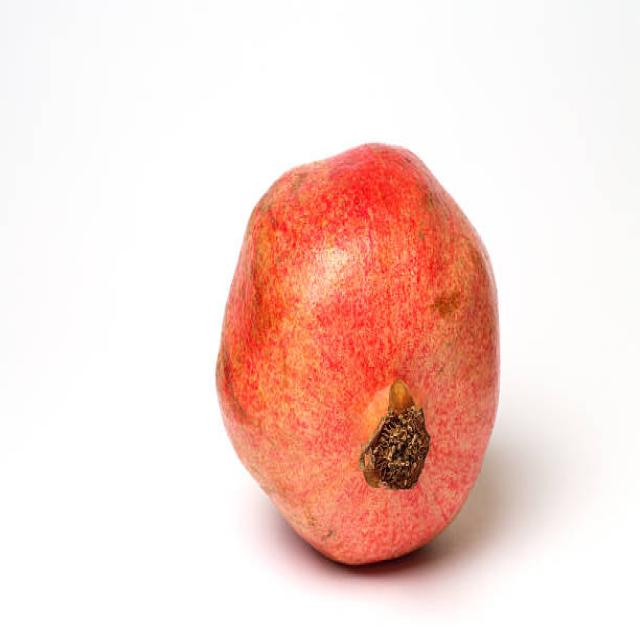Ripe: (210, 134, 507, 574)
